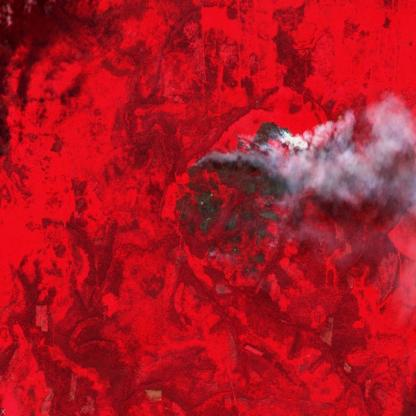fire: (182, 117, 313, 260)
